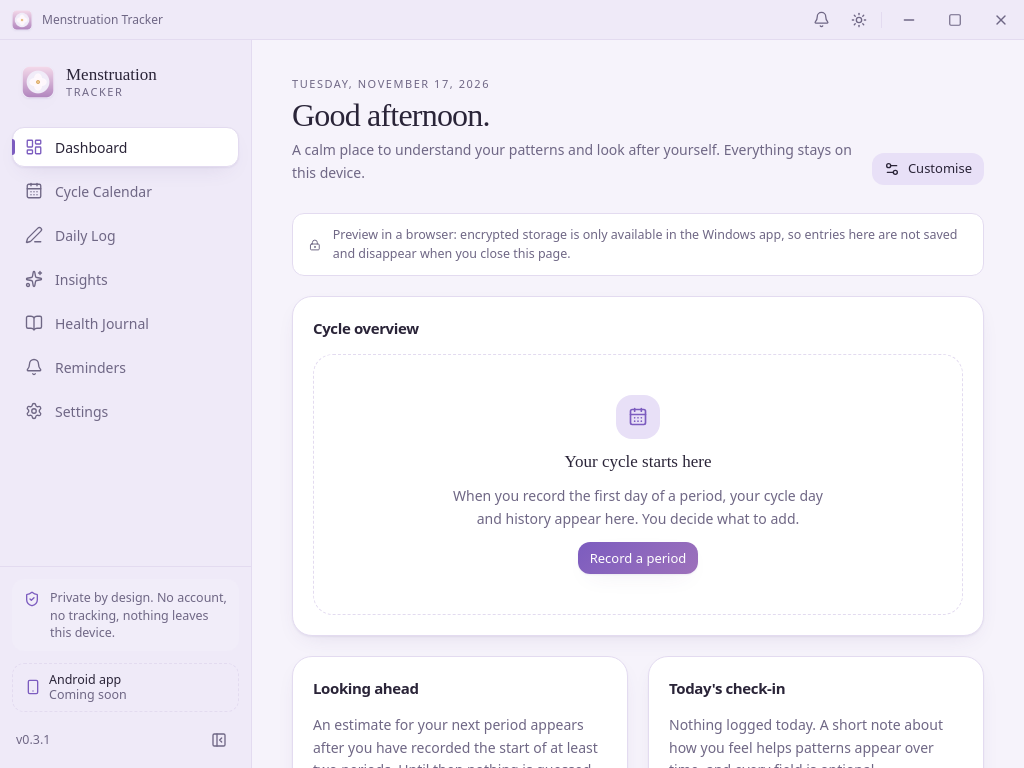
Test case: application shell › navigates to every screen from the sidebar
Later steps or results of the test are not shown.
What coordinates should you click on to do the following:
click the link "Cycle Calendar"
I would click on:
 (88, 191)
Its box is [25,182,152,200].
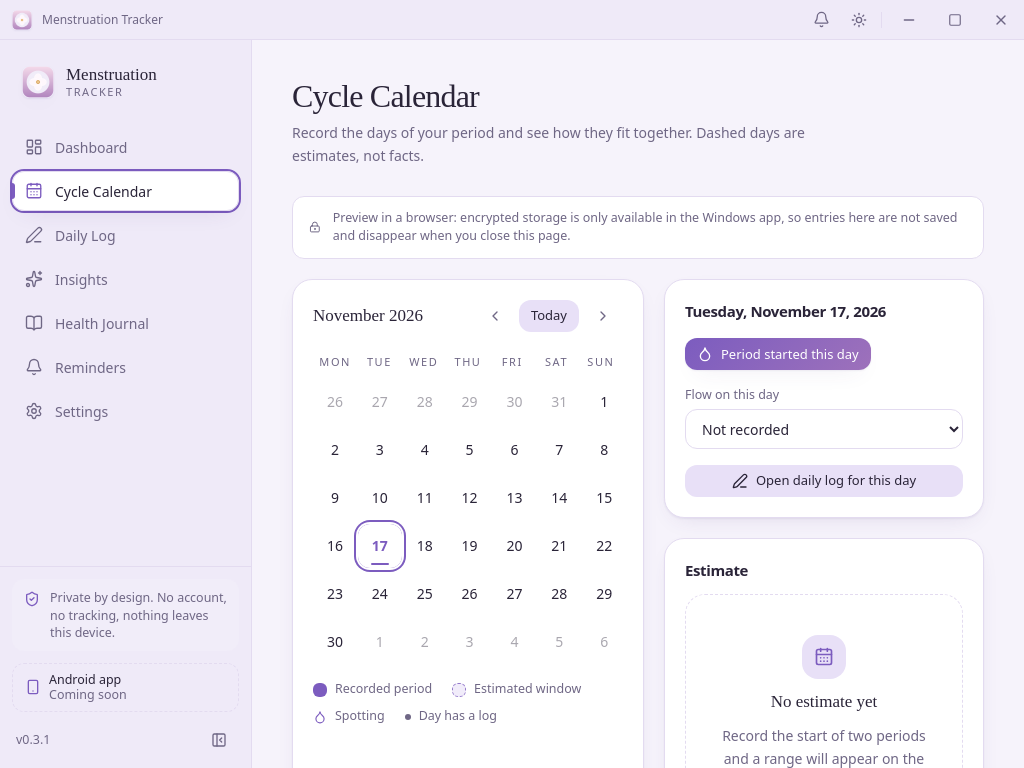
Expected: the heading "Cycle Calendar" is shown, [292,78,479,114]
What coordinates should you click on to do the following:
click the link "Daily Log"
I would click on:
 (70, 235)
Its box is [25,226,116,244].
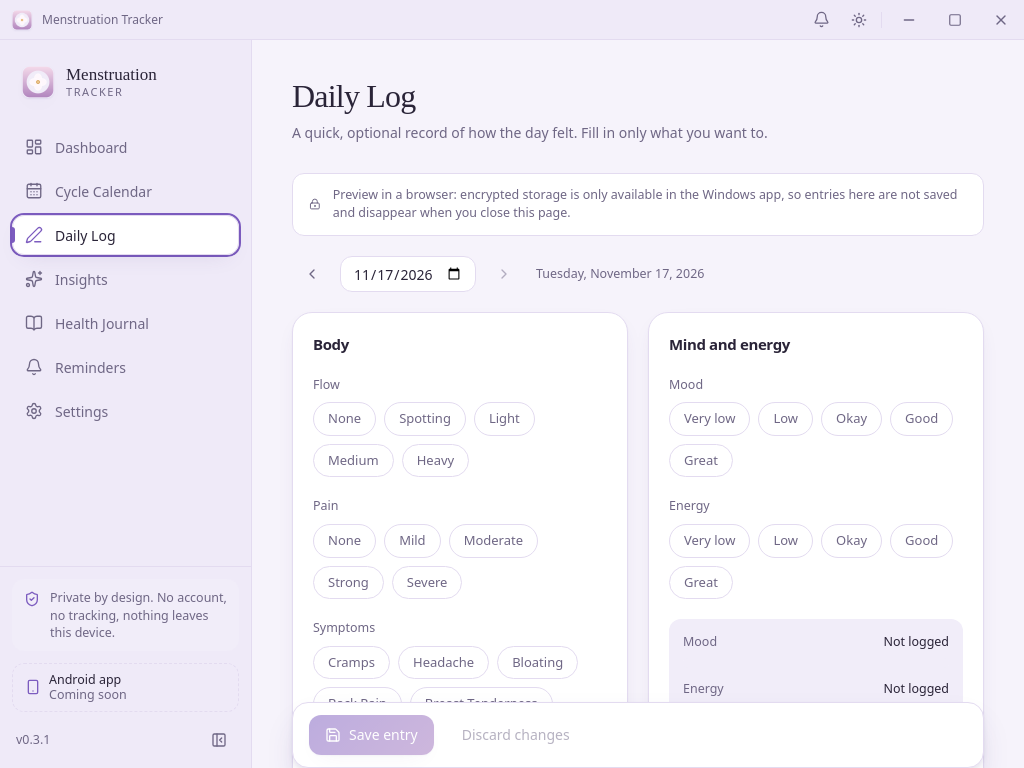
Expected: the heading "Daily Log" is shown, [292,78,416,114]
What coordinates should you click on to do the following:
click the link "Insights"
I would click on:
 (66, 279)
Its box is [25,270,108,288].
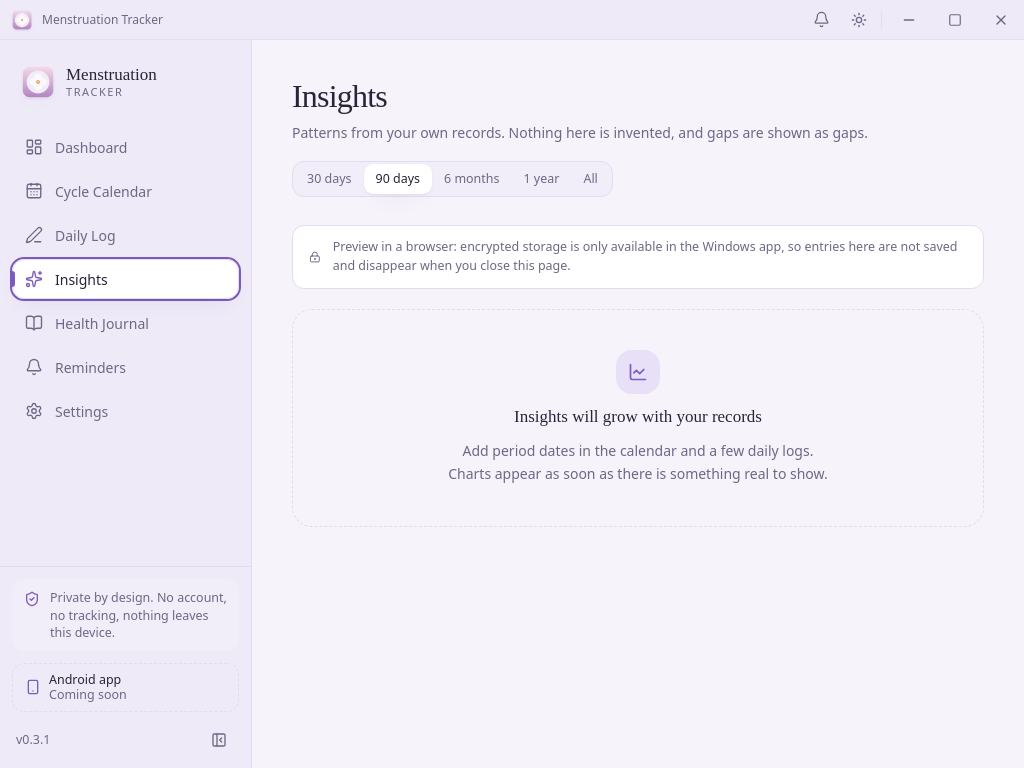
Expected: the heading "Insights" is shown, [292,78,387,114]
What coordinates should you click on to do the following:
click the link "Health Journal"
I would click on:
 (87, 323)
Its box is [25,314,149,332].
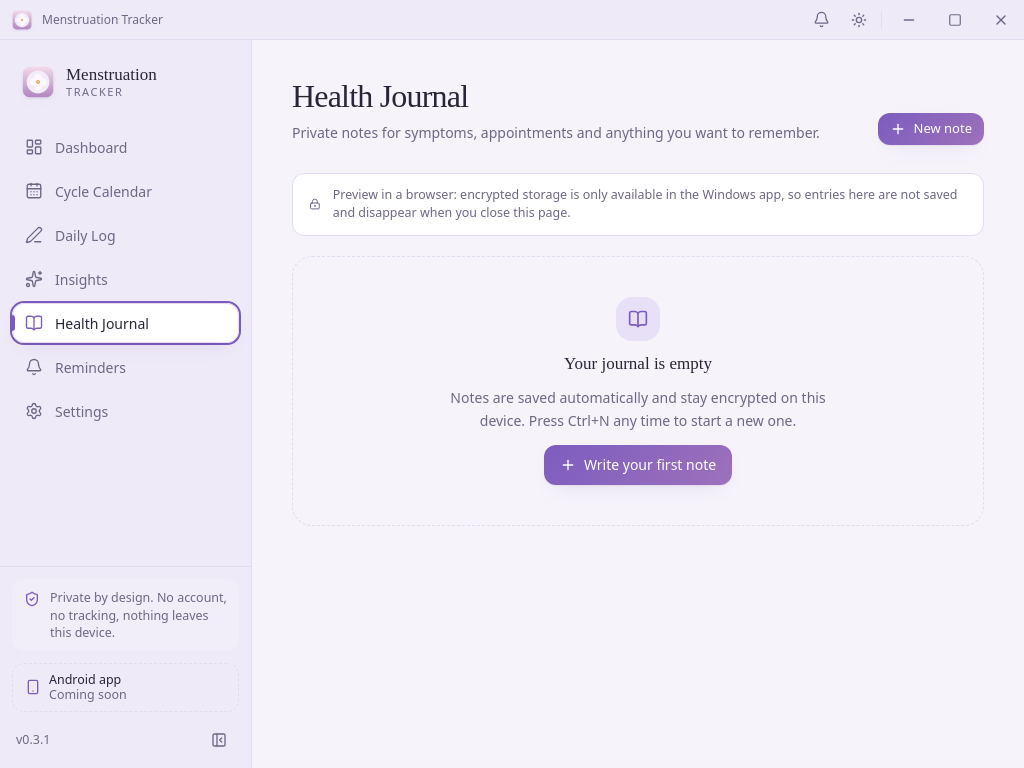
Expected: the heading "Health Journal" is shown, [292,78,468,114]
What coordinates should you click on to do the following:
click the link "Reminders"
I would click on:
 (76, 367)
Its box is [25,358,126,376].
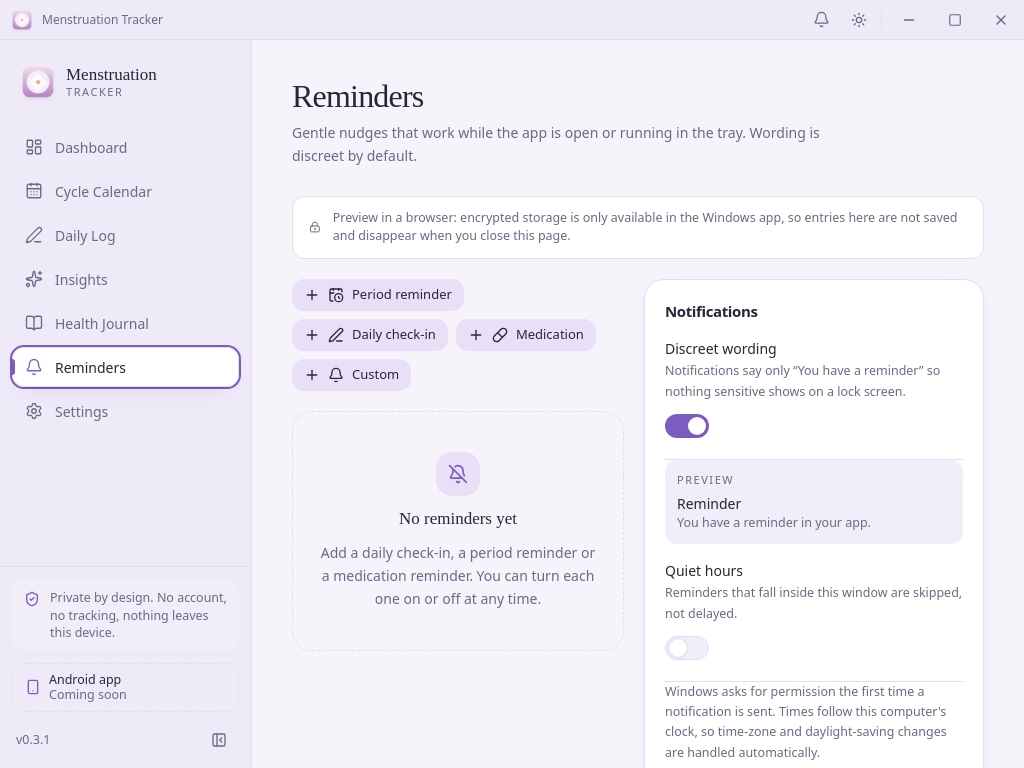
Expected: the heading "Reminders" is shown, [292,78,424,114]
What coordinates should you click on to do the following:
click the link "Settings"
I would click on:
 (67, 411)
Its box is [25,402,108,420].
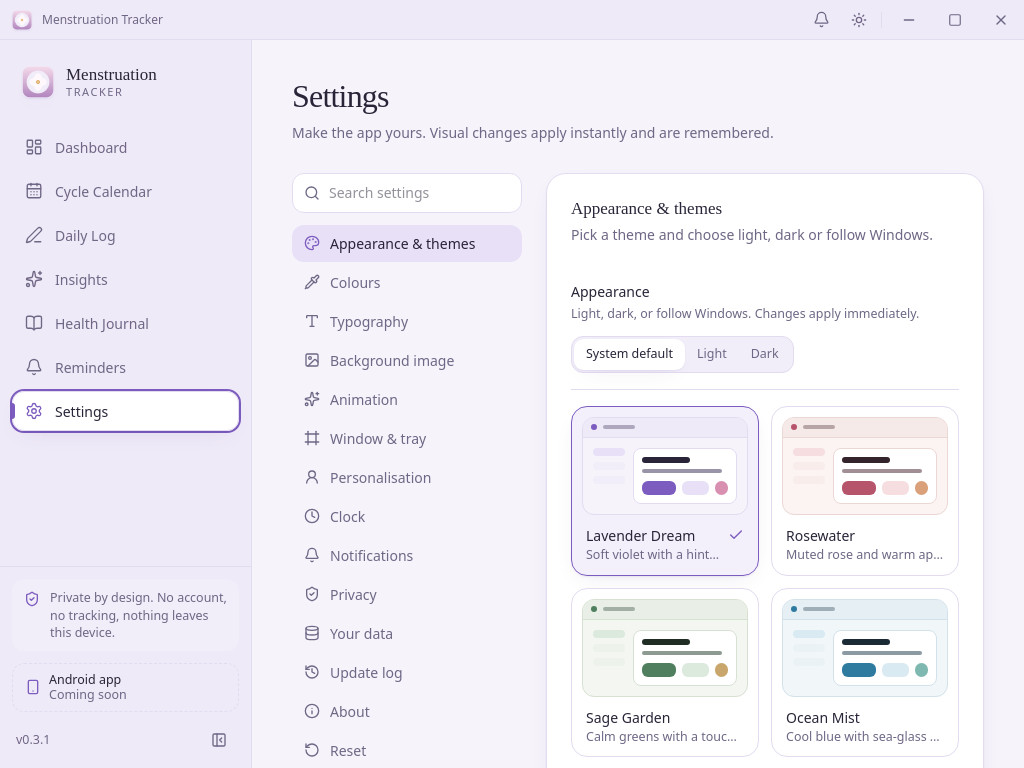
Expected: the heading "Settings" is shown, [292,78,389,114]
